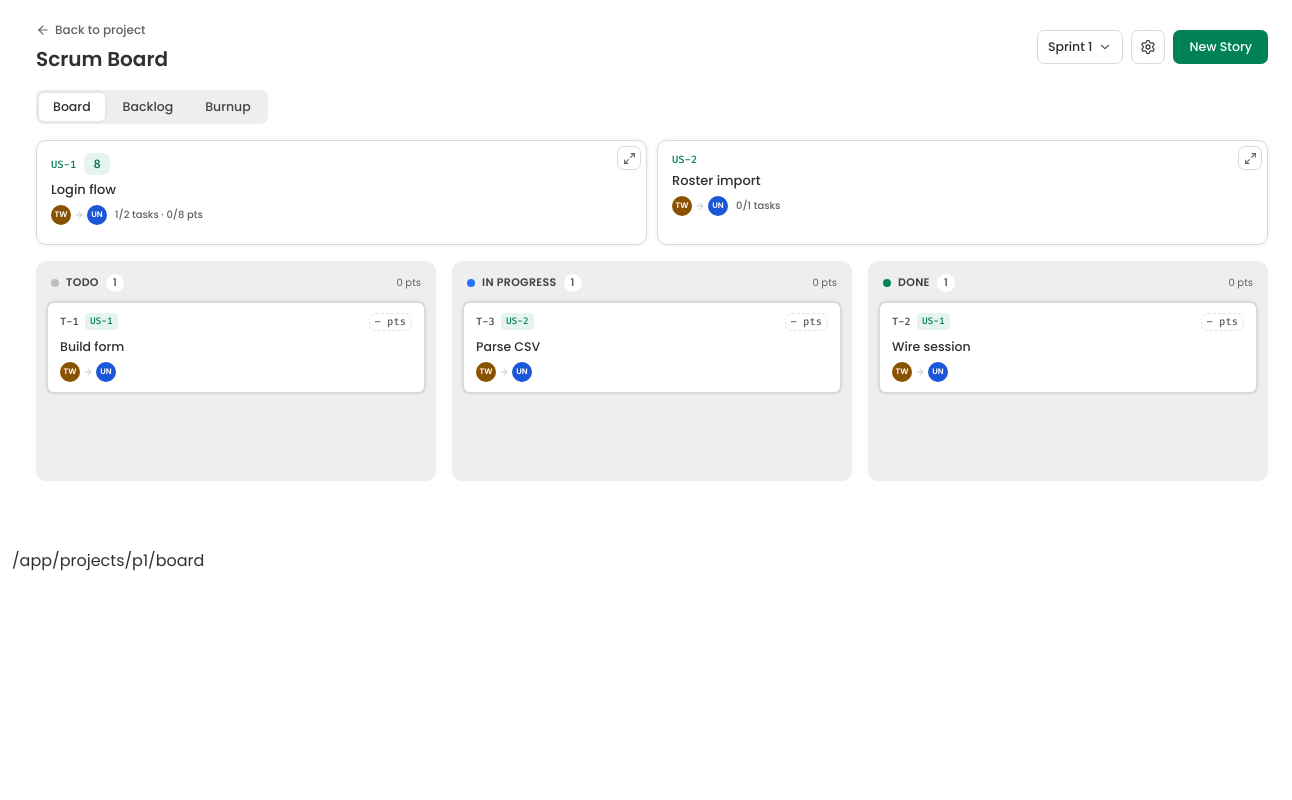
Test: ScrumBoardPage board view › filters the columns to one story and clears again
Expected: the text "Login flow" is shown, [51, 181, 116, 198]
Click the button "US-1 8 Login flow TW UN 1/2 tasks · 0/8 pts".
click(83, 190)  # box [36, 140, 647, 244]
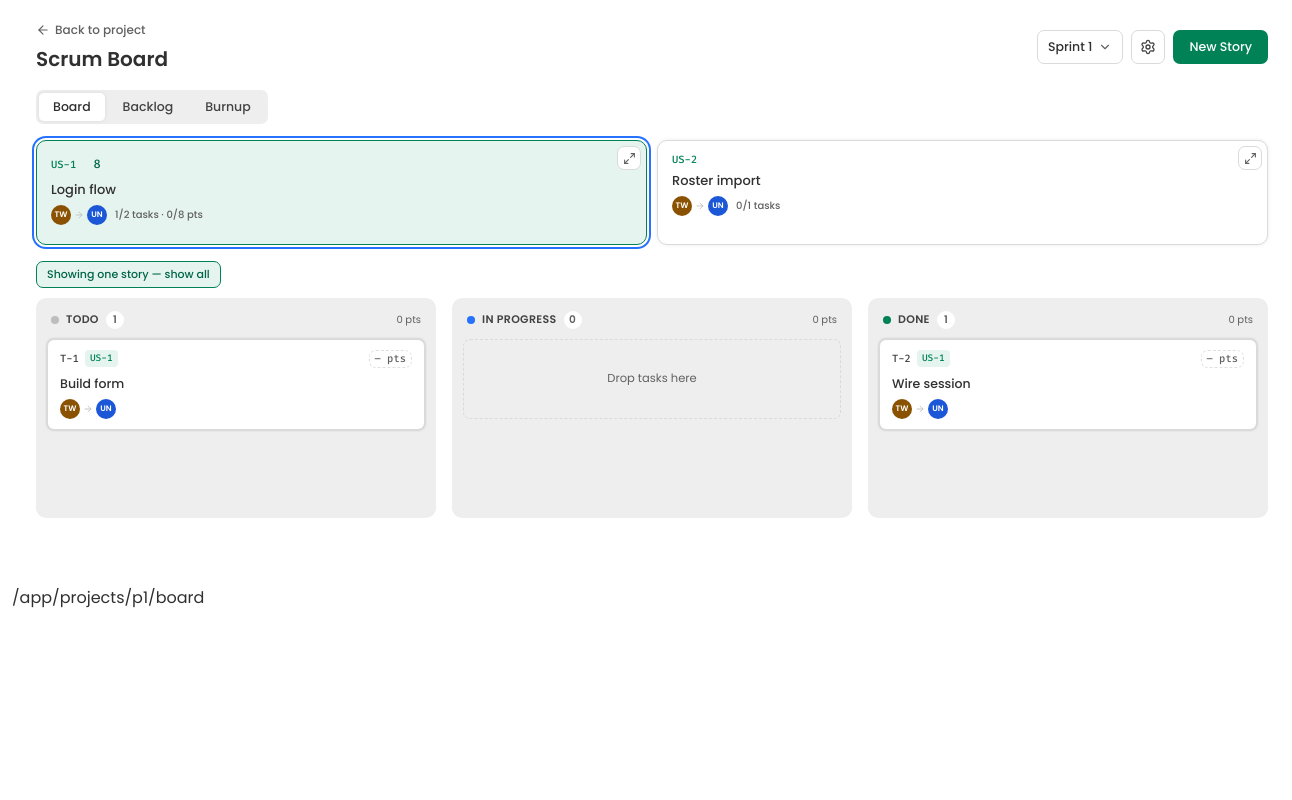
Expected: the text "Build form" is shown, [60, 374, 124, 392]
Expected: the button "Parse CSV" is gone
Click the button "Showing one story — show all".
click(128, 274)  # box [36, 260, 221, 288]
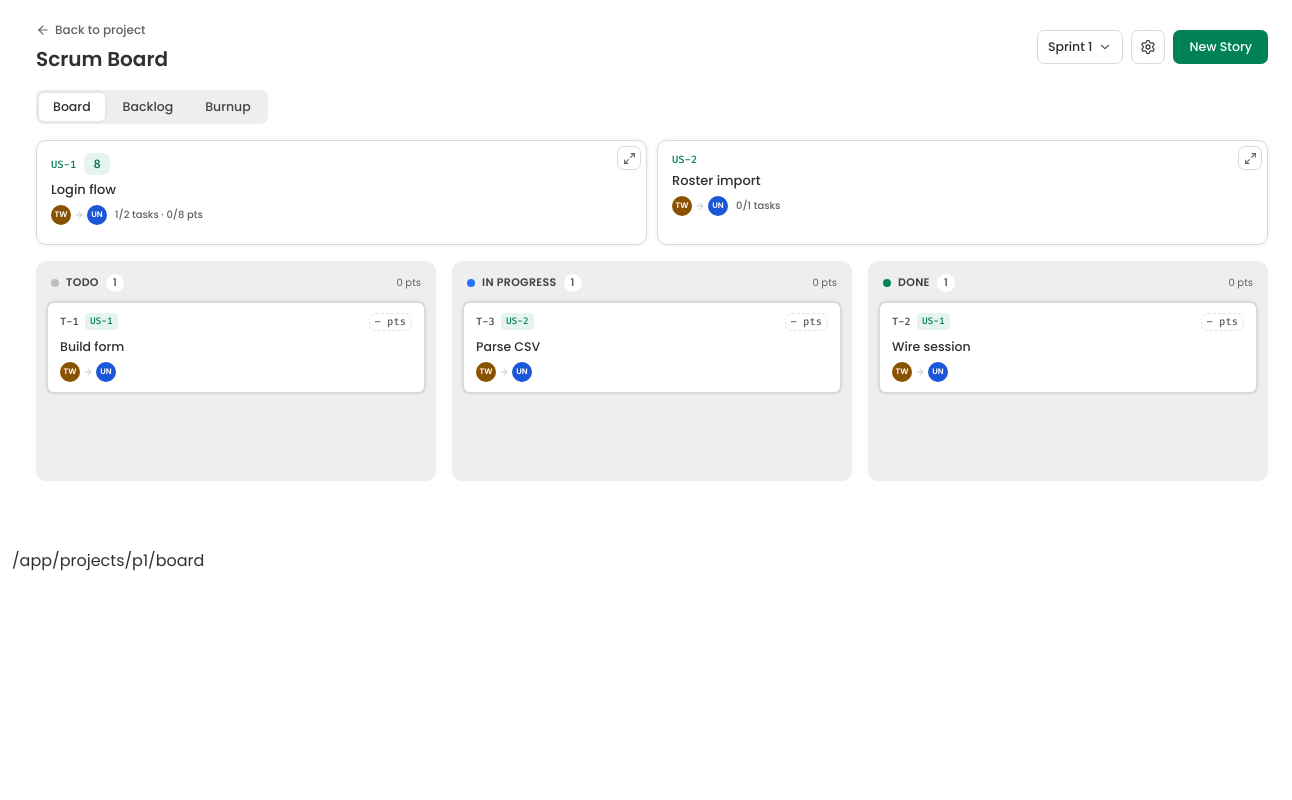
Expected: the text "Parse CSV" is shown, [476, 338, 540, 354]
